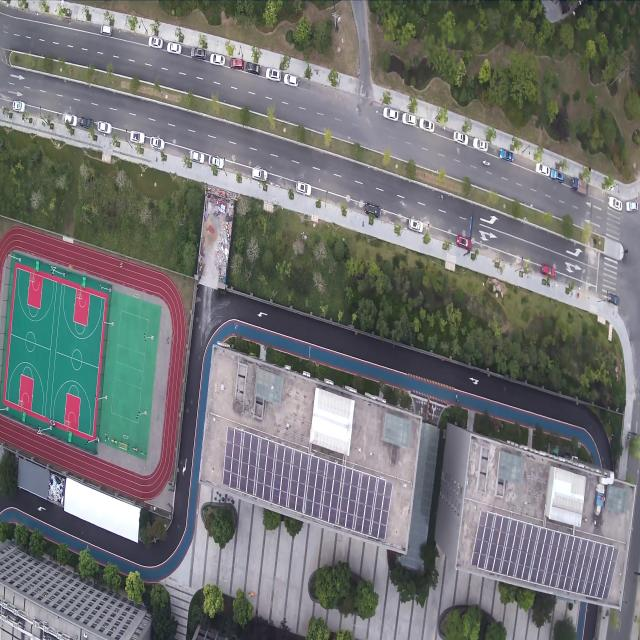drone: (234, 322, 238, 330)
